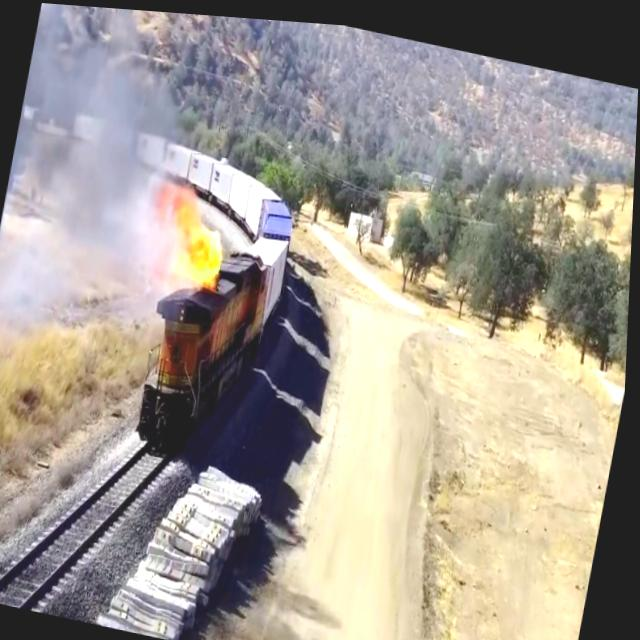fire: (152, 156, 245, 282)
